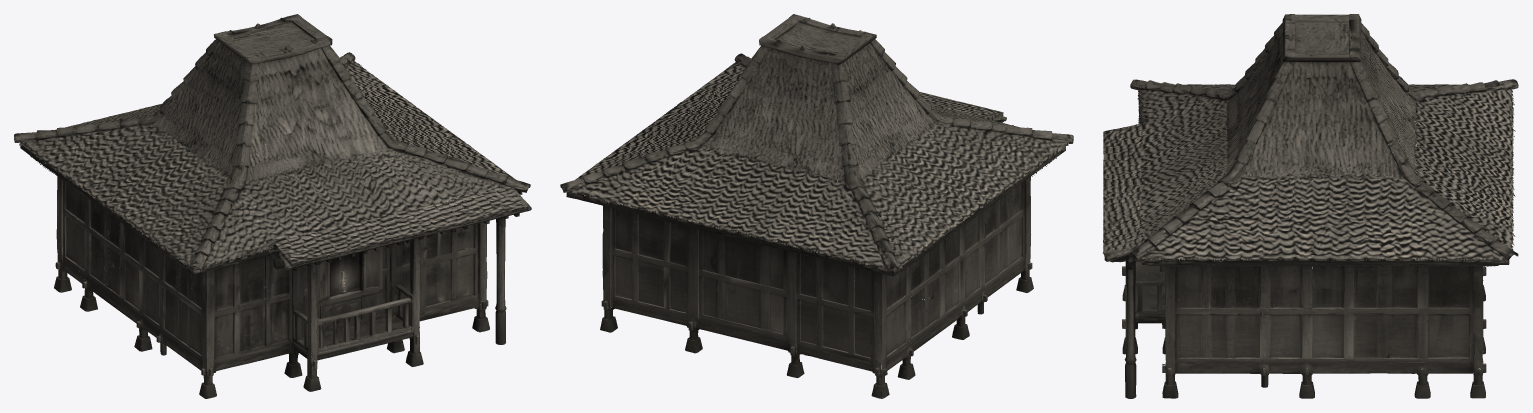
File: Home sweet home.glb
3 views of the same model, side by side, from view 1: azimuth 30°, elevation 25°; view 2: azimuth 150°, elevation 25°; view 3: azimuth 270°, elevation 25° (orthographic). The views are drawn at different scales.
Parts seen in each view (by area): view 1: node_0; view 2: node_0; view 3: node_0.
Part boxes in pixels (x1,y1,x2,y2): node_0: (14,14,531,398); node_0: (560,14,1073,398); node_0: (1103,14,1518,398).
Bounding box in the file's own units: 0.8448 × 0.6518 × 0.8407.
1 material, 1 textured.
